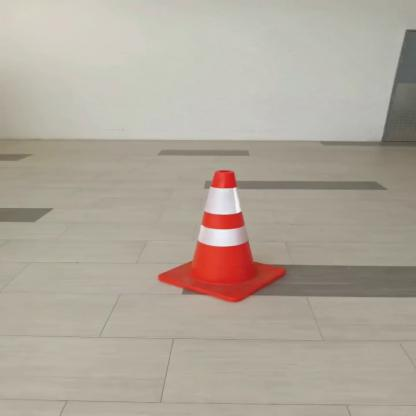cone: (135, 161, 294, 305)
